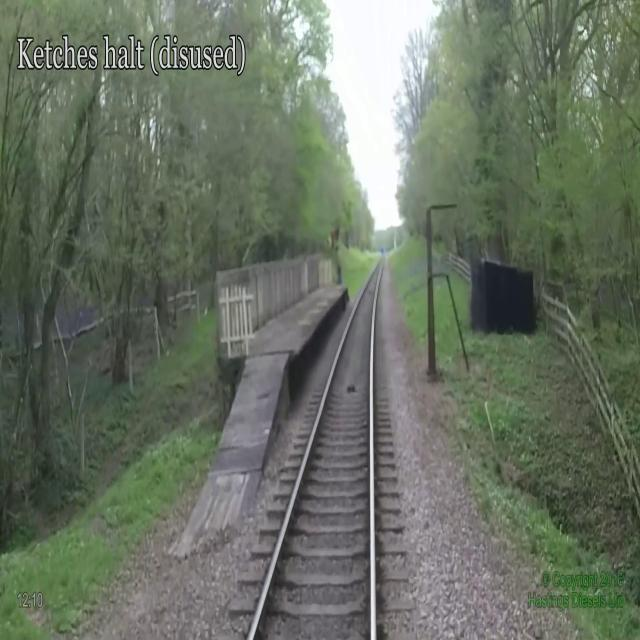rail-track: (252, 256, 383, 639)
